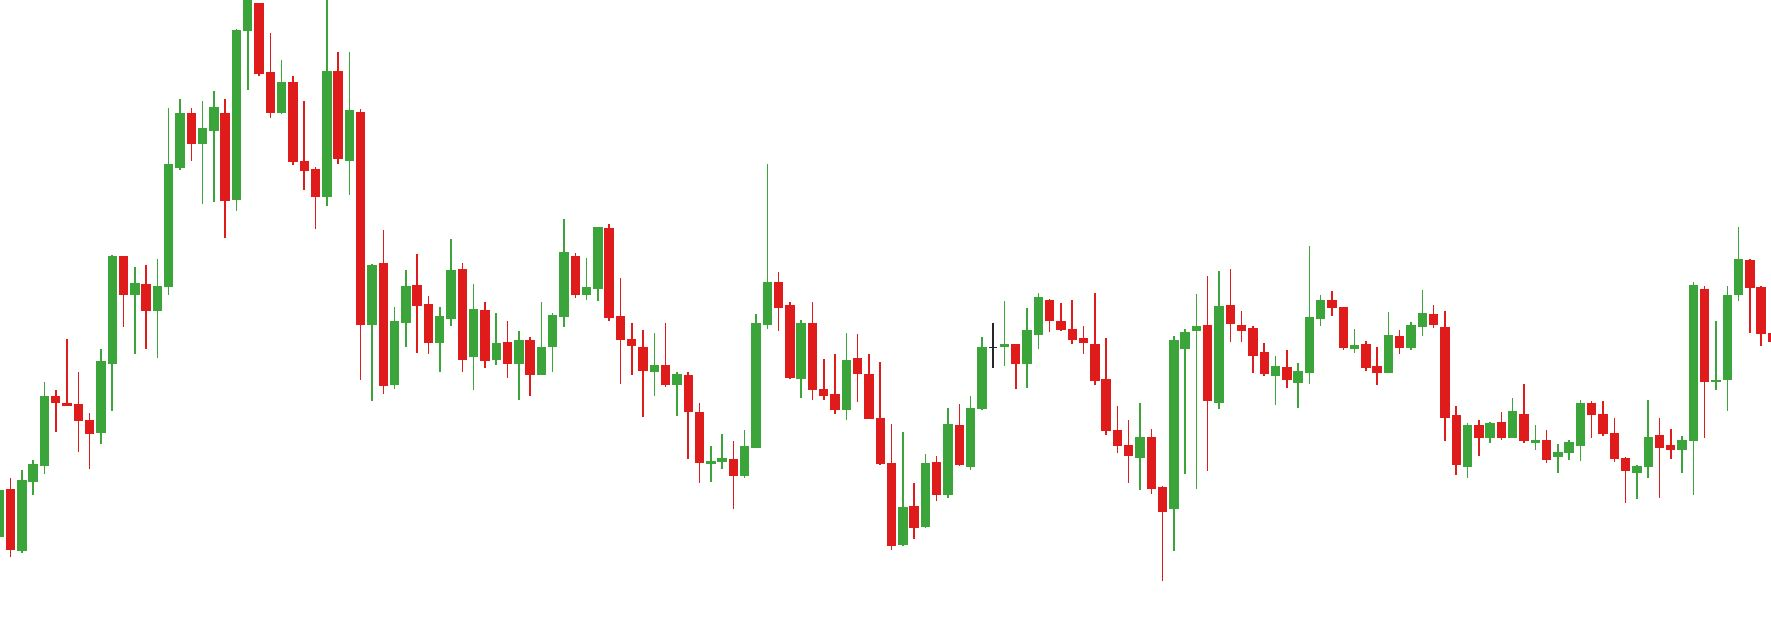buy: (1552, 426, 1642, 505)
sell: (442, 219, 581, 341)
